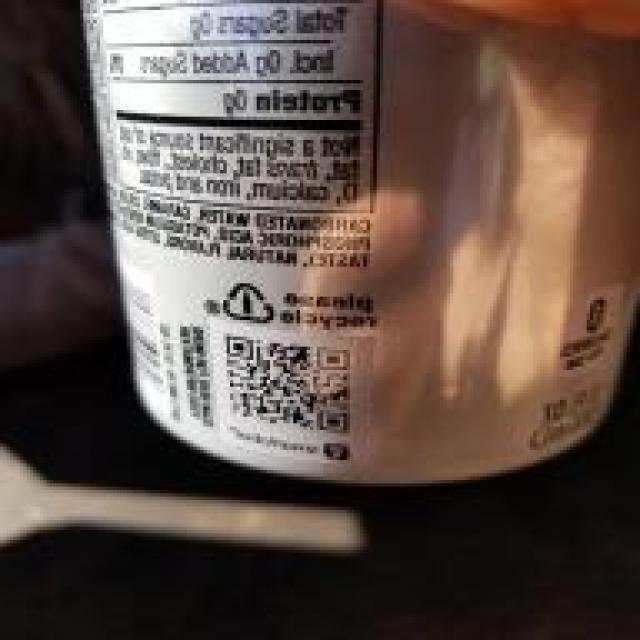qr_code: (226, 336, 352, 433)
